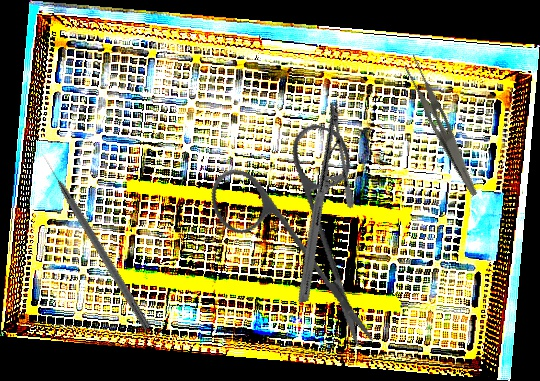Dressing Forceps: (394, 52, 493, 198)
Hook Surgical: (39, 152, 153, 331)
Iris Scissors: (179, 99, 431, 351)
Needle Holder: (237, 99, 401, 305)
